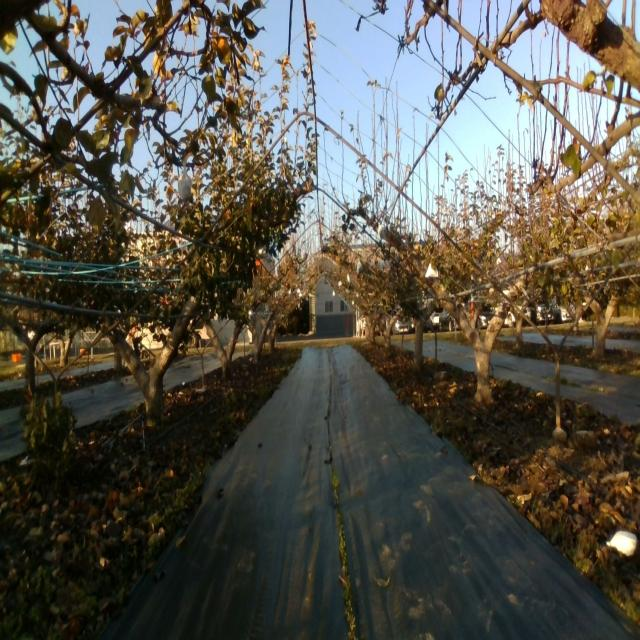pearbags: (178, 162, 190, 206)
